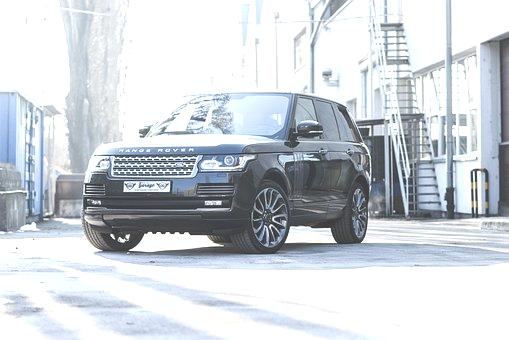range rover: (117, 145, 197, 158)
